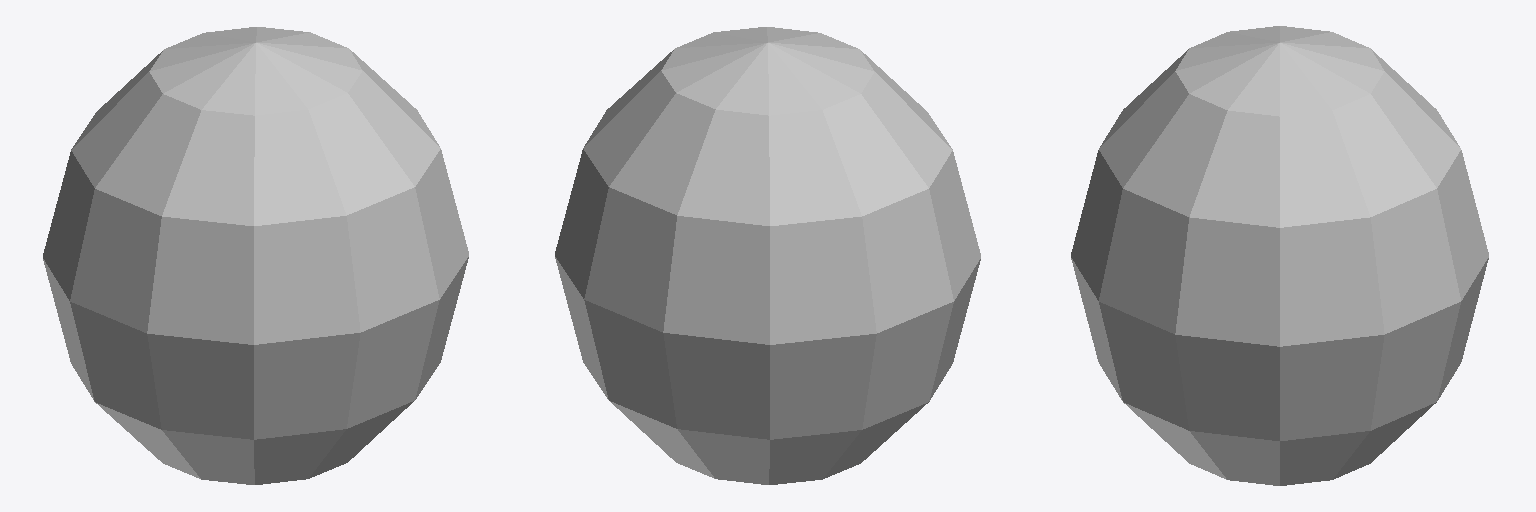
Rendered from EatenCore.obj.
3 renders of one model, left to right at view 1: azimuth 30°, elevation 25°; view 2: azimuth 150°, elevation 25°; view 3: azimuth 270°, elevation 25°, orthographic.
Parts seen in each view (by area): view 1: pSphere5; view 2: pSphere5; view 3: pSphere5.
Boxes of the visible parts, x1=… form: pSphere5: x1=43, y1=27, x2=468, y2=484; pSphere5: x1=555, y1=27, x2=980, y2=484; pSphere5: x1=1071, y1=26, x2=1488, y2=485.
Size of the model in its own units: 7.99 by 8.75 by 7.78.